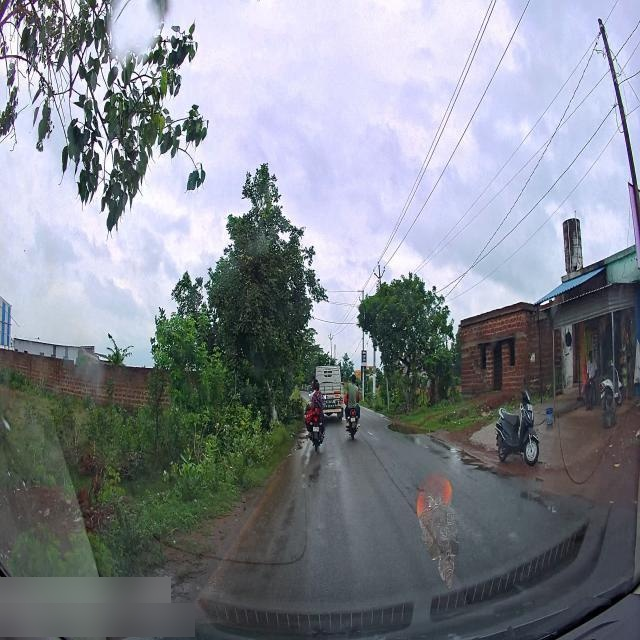pothole: (449, 448, 497, 474), (388, 421, 426, 437), (528, 494, 559, 512), (423, 434, 453, 446), (306, 461, 321, 481)
